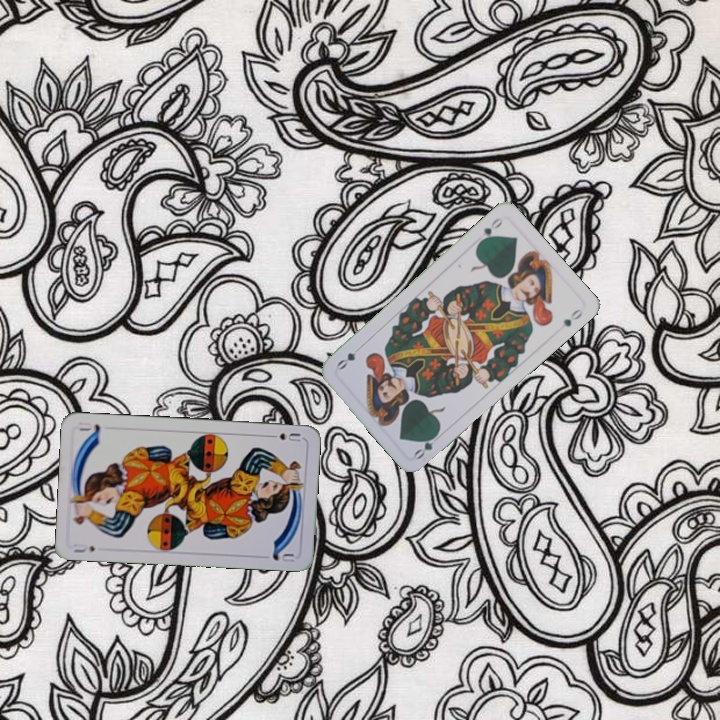GO: (410, 427, 445, 462), (474, 213, 506, 247)
SU: (264, 429, 304, 444), (69, 539, 98, 555)
